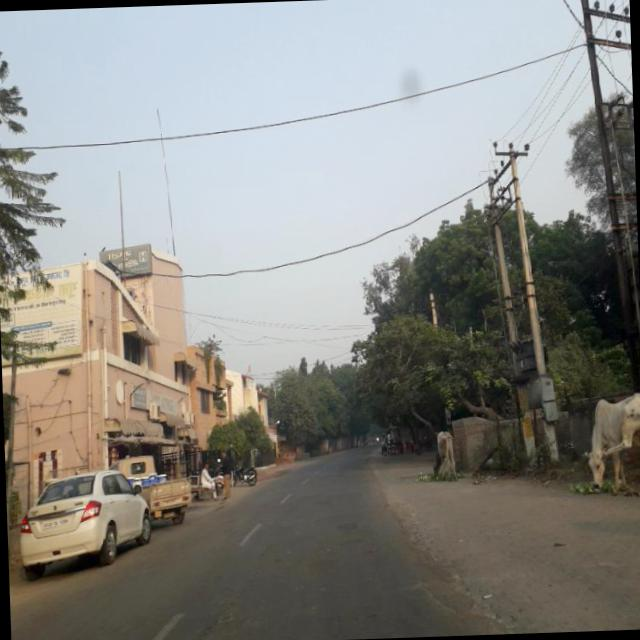pothole: (434, 551, 533, 632)
